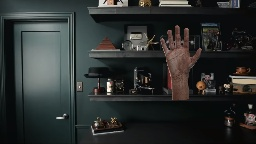Mano_aperta: (159, 24, 202, 77)
